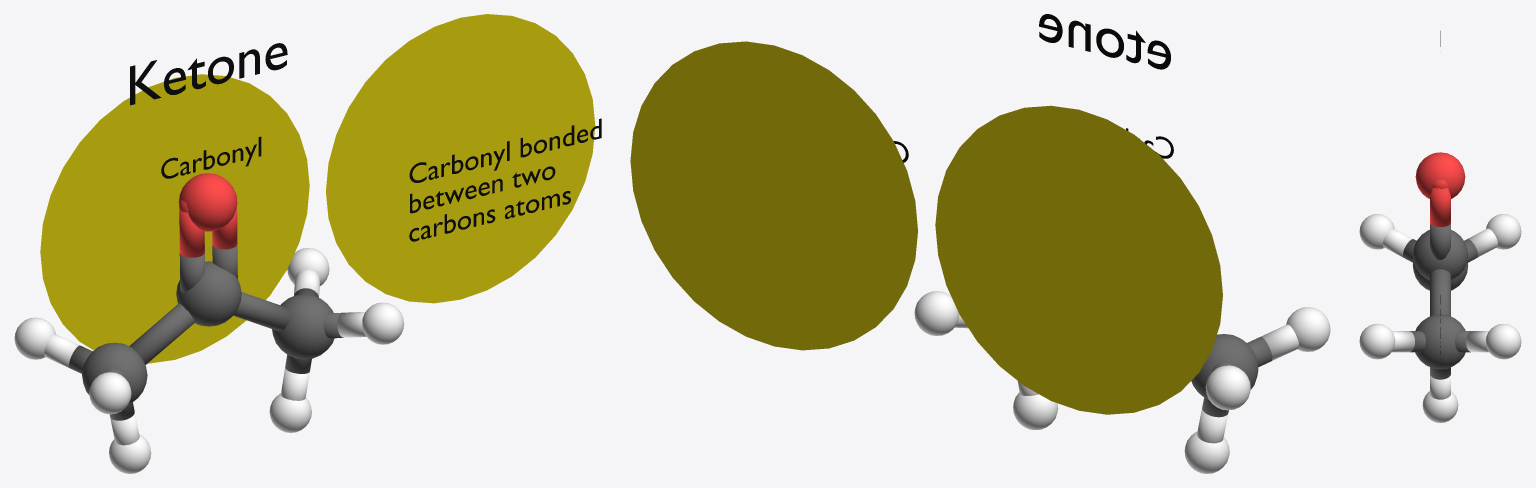
The model's file is 5ketone.glb.
The picture shows the model from 3 angles, left to right: view 1: azimuth 30°, elevation 25°; view 2: azimuth 150°, elevation 25°; view 3: azimuth 270°, elevation 25°; orthographic projection. The views are drawn at different scales.
Parts seen in each view (by area): view 1: Circle.001_4, Circle_0, Shape_IndexedFaceSet.001_3, Text.004_7, Text.003_6, Text.005_8; view 2: Circle.001_4, Circle_0, Shape_IndexedFaceSet.001_3, Text.003_6; view 3: Shape_IndexedFaceSet.001_3.
Boxes of the visible parts, x1,y1,x2,y2 form: Circle.001_4: [326, 14, 595, 303]; Circle_0: [40, 74, 309, 363]; Shape_IndexedFaceSet.001_3: [14, 173, 404, 473]; Text.004_7: [409, 118, 601, 241]; Text.003_6: [130, 43, 287, 105]; Text.005_8: [161, 136, 261, 178]; Circle.001_4: [630, 41, 917, 350]; Circle_0: [935, 105, 1222, 414]; Shape_IndexedFaceSet.001_3: [914, 291, 1330, 473]; Text.003_6: [1039, 14, 1170, 69]; Shape_IndexedFaceSet.001_3: [1359, 152, 1521, 422].
Bounding box in the file's own units: 2.12 × 1.42 × 0.6094.
